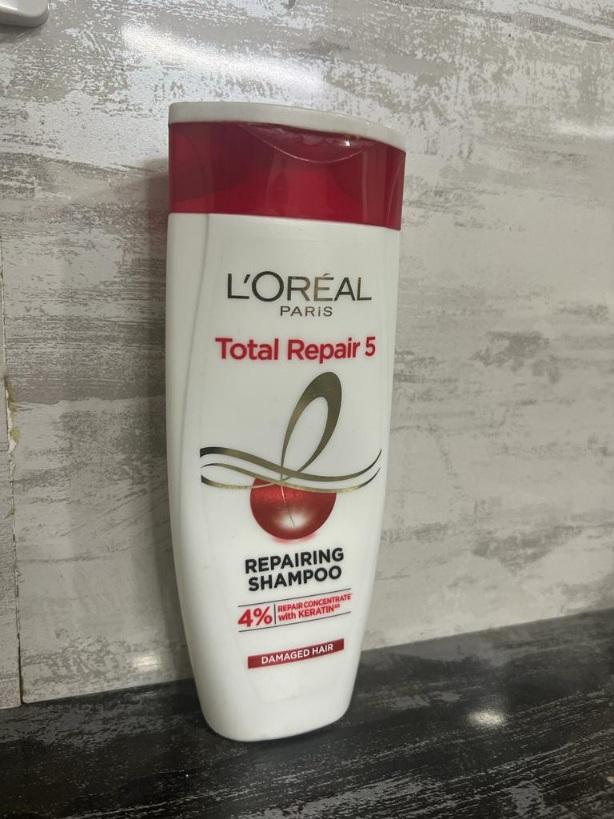Loreal: (170, 103, 407, 751)
